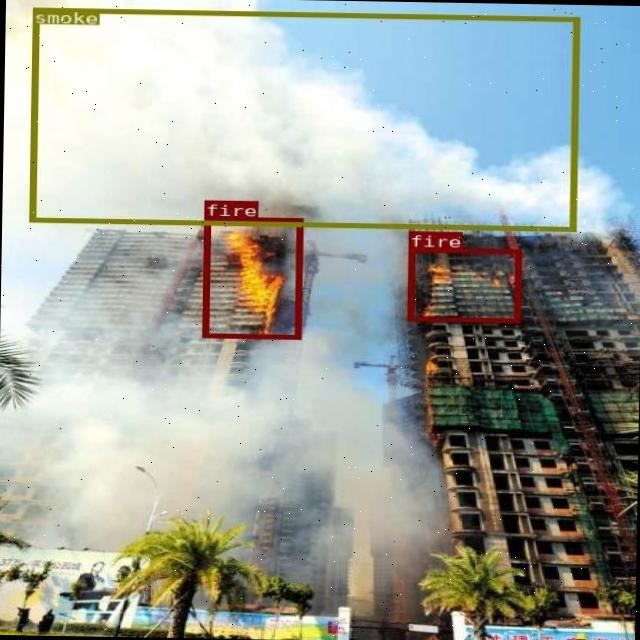fire: (200, 216, 302, 339), (406, 246, 520, 322)
smoke: (29, 7, 578, 230)
